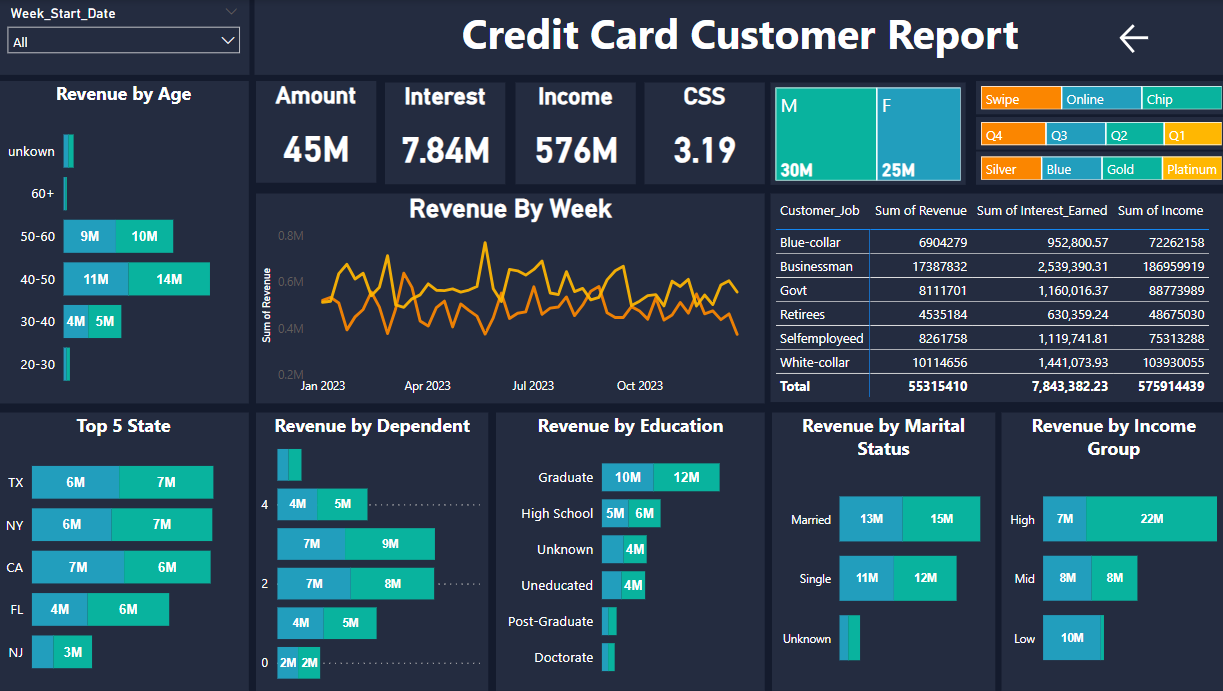

This screenshot's page, from the dashboard's own definition file:
{"tool":"powerbi","page":{"name":"Page 3","canvas":[1280,720],"ordinal":1},"visuals":[{"type":"textbox","box":[268,0,1012,78],"z":0},{"type":"pivotTable","fields":{"Values":["Sum(Detail.Revenue)","Sum(Detail.Interest_Earned)","Sum(customer_detail.Income)"],"Rows":["customer_detail.Customer_Job"]},"box":[805.7,201.4,474.3,217.1],"z":1000},{"type":"card","title":"Income","fields":{"Values":["Sum(customer_detail.Income)"]},"box":[540,86,125,106],"z":2000},{"type":"card","title":"Interest","fields":{"Values":["Sum(Detail.Interest_Earned)"]},"box":[404,86,125,106],"z":3000},{"type":"card","title":"Amount","fields":{"Values":["Sum(Detail.Total_Trans_Amt)"]},"box":[268.8,85,125,106.2],"z":4000},{"type":"card","title":"CSS","fields":{"Values":["Avg(customer_detail.Cust_Satisfaction_Score)"]},"box":[674,86,125,106],"z":5000},{"type":"treemap","fields":{"Group":["Detail.Qtr"],"Values":["Avg(Detail.Client_Num)"]},"box":[1018.8,121.9,261.2,34],"z":6000},{"type":"treemap","fields":{"Values":["Avg(Detail.Client_Num)"],"Group":["Detail.Use_Chip"]},"box":[1018.8,85,261.2,34.4],"z":8000},{"type":"treemap","fields":{"Group":["Detail.Card_Category"],"Values":["Avg(Detail.Client_Num)"]},"box":[1018.8,158.1,261.2,34.4],"z":9000},{"type":"slicer","fields":{"Values":["Detail.Week_Start_Date"]},"box":[0,0,261.8,78.2],"z":10000},{"type":"lineChart","title":"Revenue By Week","fields":{"Y":["Sum(Detail.Revenue)"],"Category":["Detail.Week_Start_Date.Variation.Date Hierarchy.Year","Detail.Week_Start_Date.Variation.Date Hierarchy.Quarter","Detail.Week_Start_Date.Variation.Date Hierarchy.Month","Detail.Week_Start_Date.Variation.Date Hierarchy.Day"],"Series":["customer_detail.Gender"]},"box":[268.6,201.4,530,218.6],"z":11000},{"type":"treemap","fields":{"Group":["customer_detail.Gender"],"Values":["Sum(Detail.Revenue)"]},"box":[805.6,85.6,203.1,106.9],"z":12000},{"type":"barChart","title":"Revenue by Income Group","fields":{"Category":["customer_detail.IncomeGroup"],"Y":["Sum(Detail.Revenue)"],"Series":["customer_detail.Gender"]},"box":[1046,430,234,290],"z":13000},{"type":"barChart","title":"Revenue by Age","fields":{"Category":["customer_detail.AgeGroup"],"Y":["Sum(Detail.Revenue)"],"Series":["customer_detail.Gender"]},"box":[0,84.3,261.4,335.7],"z":14000},{"type":"barChart","title":"Revenue by Dependent","fields":{"Y":["Sum(Detail.Revenue)"],"Category":["customer_detail.Dependent_Count"],"Series":["customer_detail.Gender"]},"box":[268.2,430,241.8,290],"z":15000},{"type":"barChart","title":"Top 5 State","fields":{"Y":["Sum(Detail.Revenue)"],"Category":["customer_detail.state_cd"],"Series":["customer_detail.Gender"]},"box":[0,430,261.4,290],"z":16000},{"type":"barChart","title":"Revenue by Marital  Status","fields":{"Y":["Sum(Detail.Revenue)"],"Category":["customer_detail.Marital_Status"],"Series":["customer_detail.Gender"]},"box":[805.9,429.9,232.4,290.2],"z":17000},{"type":"barChart","title":"Revenue by Education","fields":{"Y":["Sum(Detail.Revenue)"],"Series":["customer_detail.Gender"],"Category":["customer_detail.Education_Level"]},"box":[518.6,430,280,290],"z":18000}]}

Visuals, with their boxes in screenshot pixels (x1, y1, x2, y2), scaled from the page's 1280x720 canvas onto the 1223x691 screenshot:
textbox: <bbox>256, 0, 1222, 75</bbox>
pivotTable - Sum(Detail.Revenue) x Sum(Detail.Interest_Earned): <bbox>770, 193, 1222, 402</bbox>
"Income" card: <bbox>516, 83, 635, 184</bbox>
"Interest" card: <bbox>386, 83, 505, 184</bbox>
"Amount" card: <bbox>257, 82, 376, 183</bbox>
"CSS" card: <bbox>644, 83, 763, 184</bbox>
treemap - Detail.Qtr x Avg(Detail.Client_Num): <bbox>973, 117, 1222, 150</bbox>
treemap - Avg(Detail.Client_Num) x Detail.Use_Chip: <bbox>973, 82, 1222, 115</bbox>
treemap - Detail.Card_Category x Avg(Detail.Client_Num): <bbox>973, 152, 1222, 185</bbox>
slicer - Detail.Week_Start_Date: <bbox>0, 0, 250, 75</bbox>
"Revenue By Week" lineChart: <bbox>257, 193, 763, 403</bbox>
treemap - customer_detail.Gender x Sum(Detail.Revenue): <bbox>770, 82, 964, 185</bbox>
"Revenue by Income Group" barChart: <bbox>999, 413, 1222, 690</bbox>
"Revenue by Age" barChart: <bbox>0, 81, 250, 403</bbox>
"Revenue by Dependent" barChart: <bbox>256, 413, 487, 690</bbox>
"Top 5 State" barChart: <bbox>0, 413, 250, 690</bbox>
"Revenue by Marital  Status" barChart: <bbox>770, 413, 992, 690</bbox>
"Revenue by Education" barChart: <bbox>496, 413, 763, 690</bbox>
